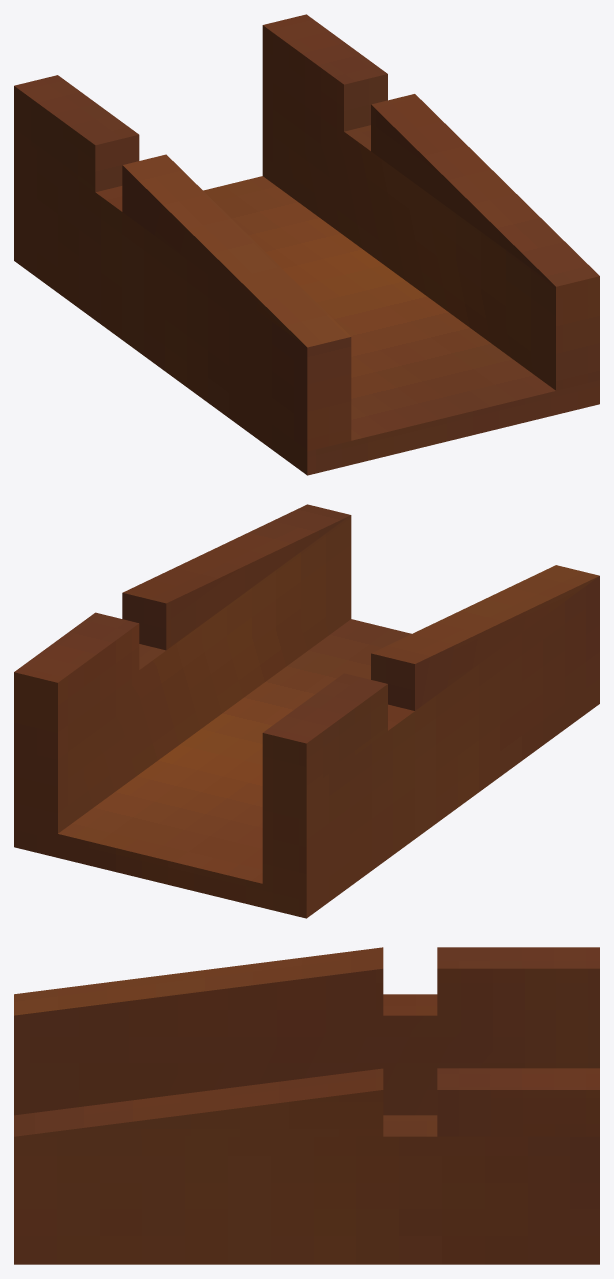
File: cannon_mount.obj
3 renders of one model, top to bottom at view 1: azimuth 30°, elevation 25°; view 2: azimuth 150°, elevation 25°; view 3: azimuth 270°, elevation 25°, orthographic.
Visible parts, largest first — view 1: Cube; view 2: Cube; view 3: Cube.
Boxes of the visible parts, <box> form: Cube: <box>14,14,599,475</box>; Cube: <box>14,504,599,918</box>; Cube: <box>14,947,599,1264</box>.
Size of the model in its own units: 0.8143 by 0.4657 by 1.41.
Materials: 1 (1 with a texture image).
